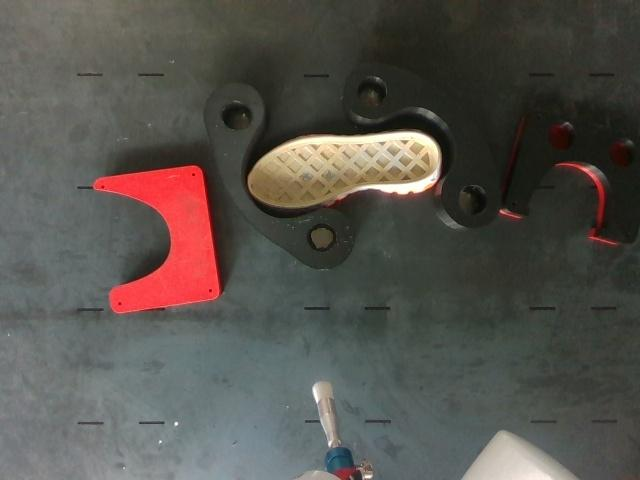shoes: (249, 133, 439, 206)
